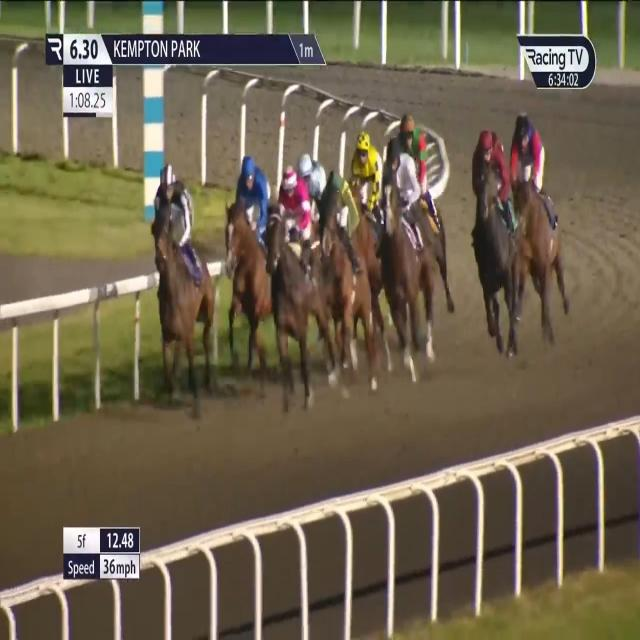horses-racing: (153, 163, 220, 396), (507, 113, 568, 338), (319, 172, 381, 385), (381, 140, 438, 364), (468, 130, 524, 345), (271, 169, 327, 384), (224, 156, 278, 354), (398, 116, 453, 291), (348, 129, 384, 304), (297, 150, 330, 227)
